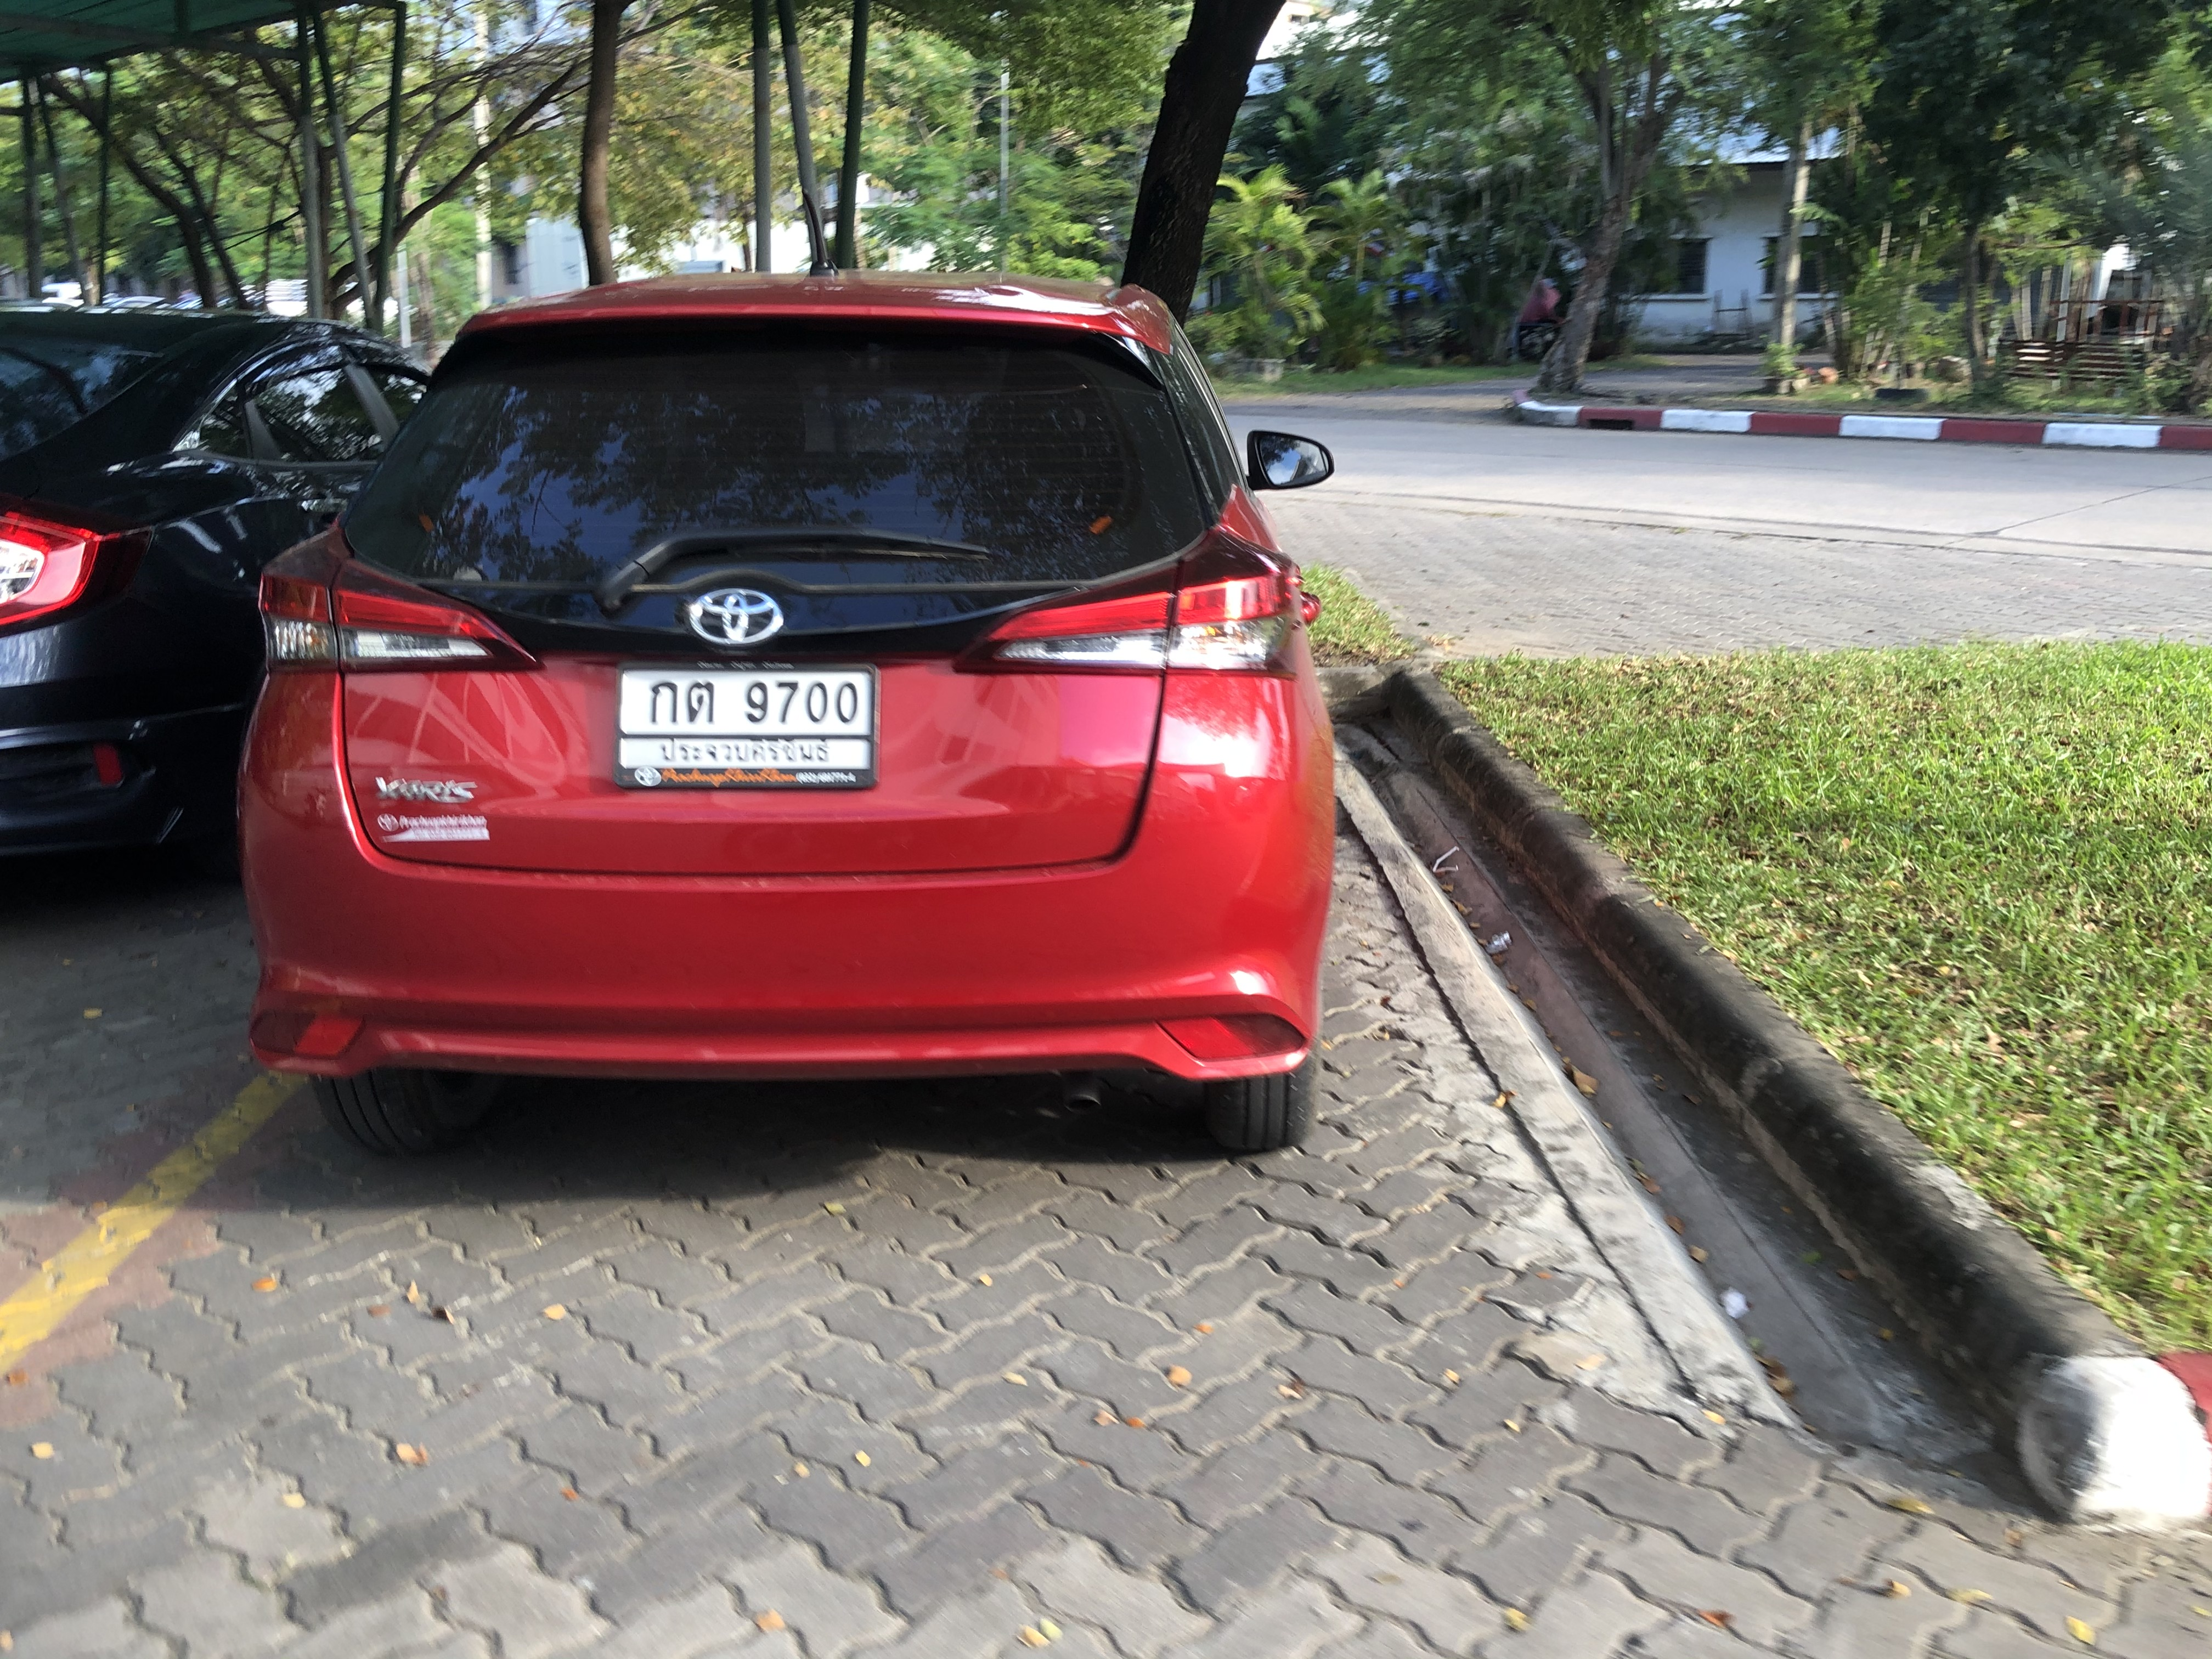in: (618, 676, 869, 770)
out: (613, 660, 880, 789)
